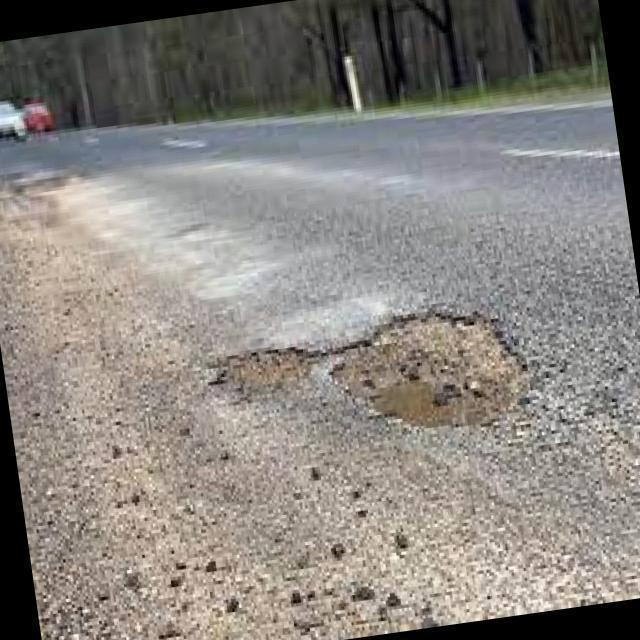pothole: (330, 315, 528, 426), (228, 349, 304, 394)
